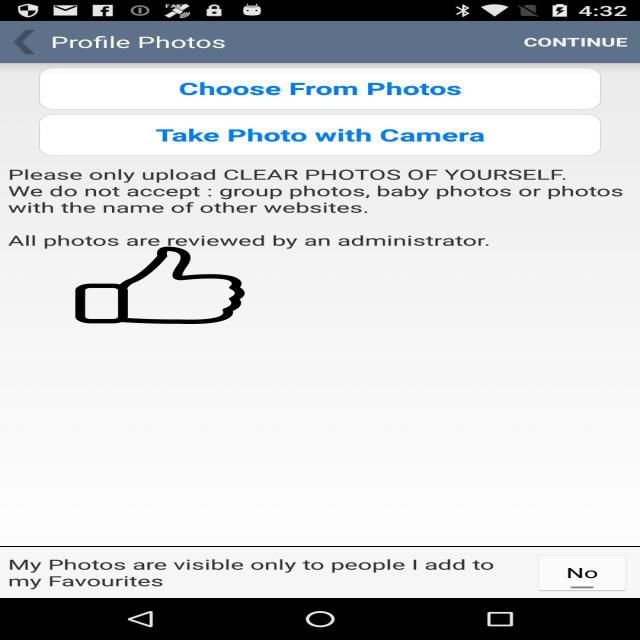privacy zuckering: (73, 247, 247, 324)
